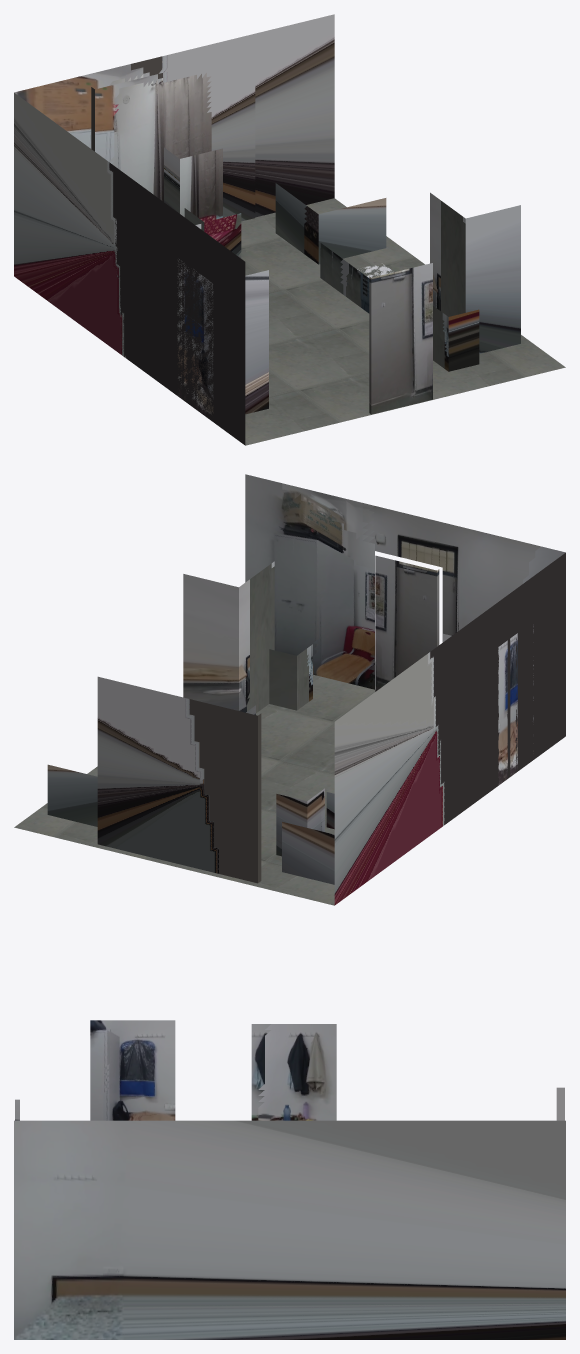
Rendered from room_model.glb.
3 views of the same model, one above another, from view 1: azimuth 30°, elevation 25°; view 2: azimuth 150°, elevation 25°; view 3: azimuth 270°, elevation 25° (orthographic). The views are drawn at different scales.
Parts seen in each view (by area): view 1: geometry_0; view 2: geometry_0; view 3: geometry_0.
Part boxes in pixels (left/top/right/bottom): geometry_0: left=14, top=14, right=565, bottom=445; geometry_0: left=14, top=474, right=565, bottom=905; geometry_0: left=14, top=1020, right=565, bottom=1339.
Bounding box in the file's own units: 5.2 × 2.85 × 6.5.
1 material, 1 textured.
